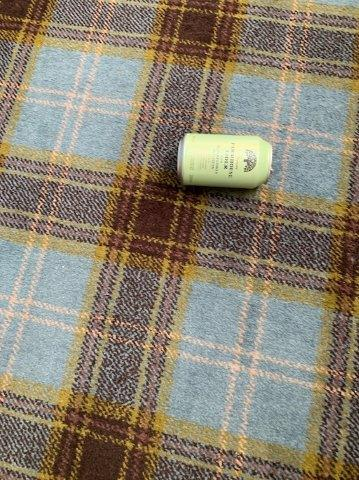kaleng: (177, 133, 273, 189)
